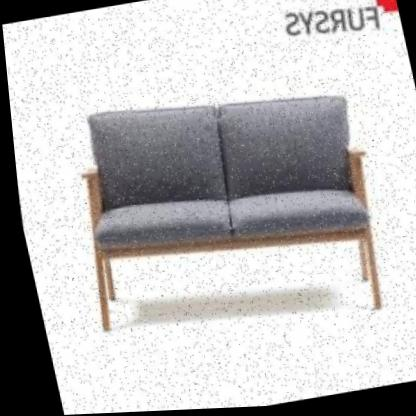Sofa: (57, 72, 398, 367)
